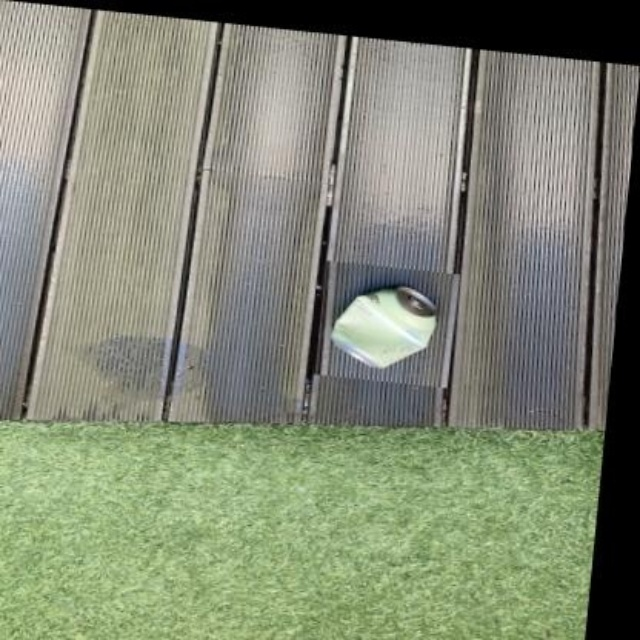trash: (331, 286, 435, 366)
